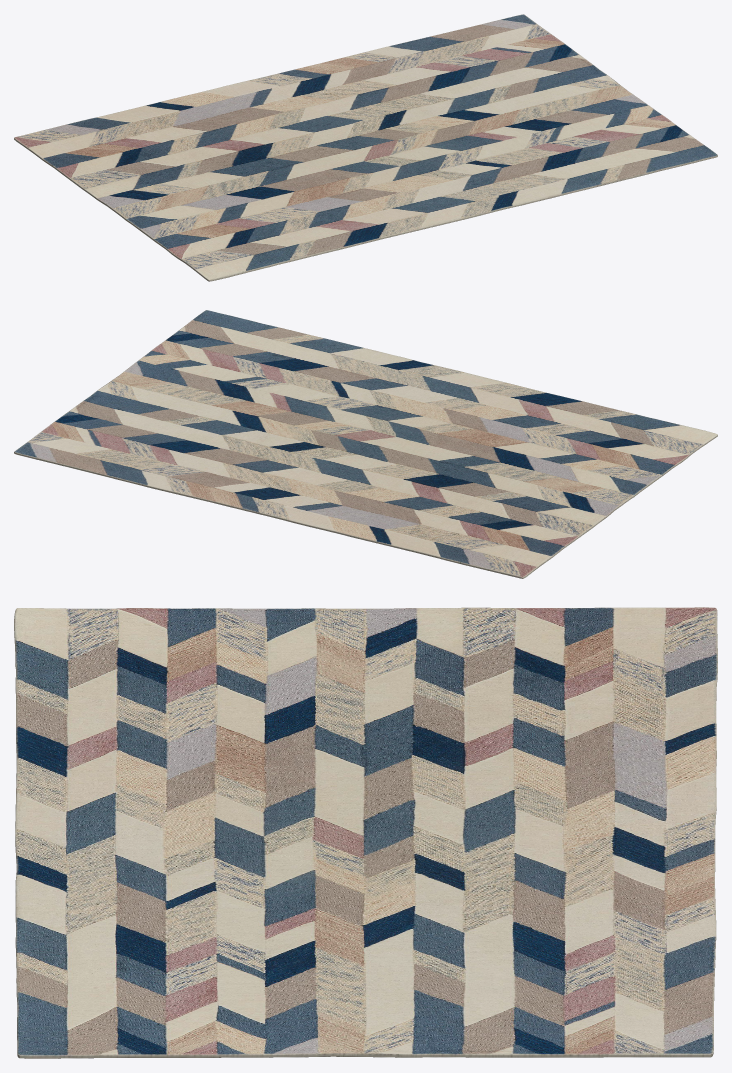
The model's file is abo_B07B4YVDLQ.glb.
The picture shows the model from 3 angles, top to bottom: view 1: azimuth 30°, elevation 25°; view 2: azimuth 150°, elevation 25°; view 3: azimuth 270°, elevation 25°; orthographic projection. The views are drawn at different scales.
Parts seen in each view (by area): view 1: RootNode; view 2: RootNode; view 3: RootNode.
Boxes of the visible parts, bbox=[...] form: RootNode: bbox=[14, 14, 717, 281]; RootNode: bbox=[14, 310, 717, 578]; RootNode: bbox=[14, 607, 717, 1058].
Size of the model in its own units: 1.81 by 0.00612 by 1.2.
1 material, 1 textured.
